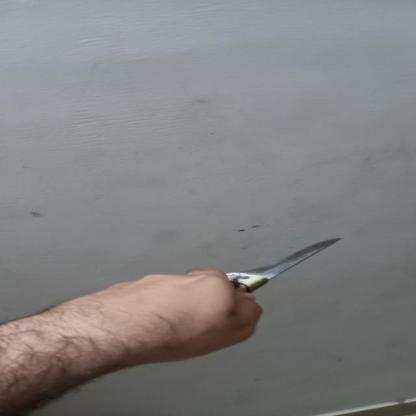Knife: (198, 233, 348, 299)
